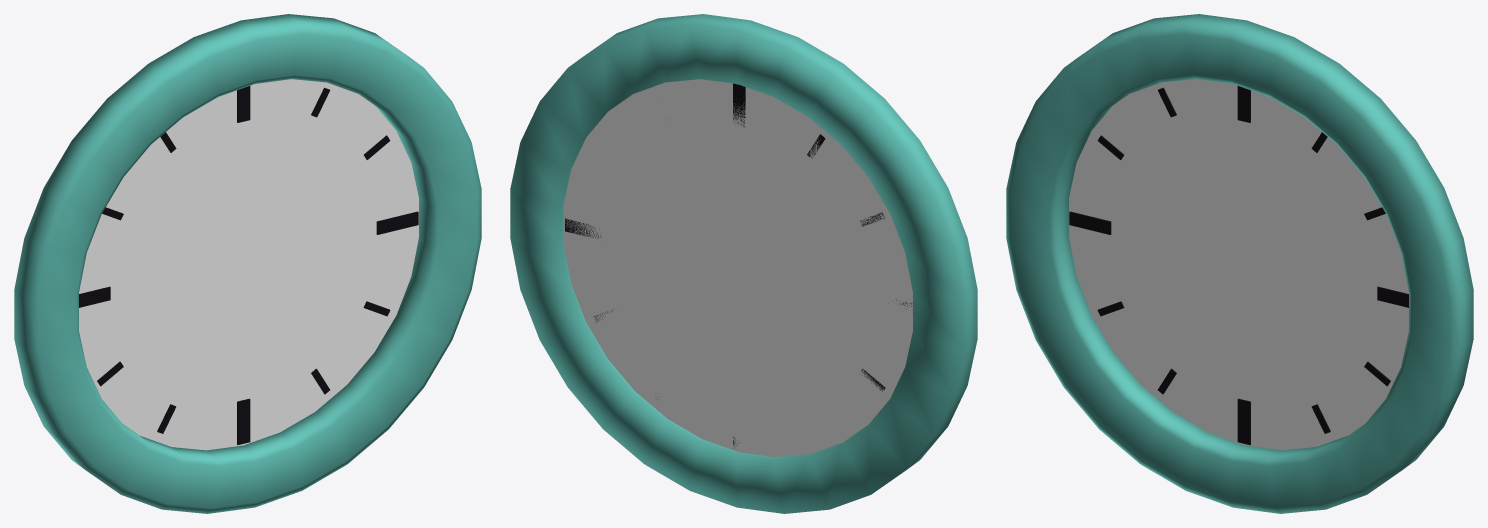
The model's file is Clock.002.fbx.
3 views of the same model, side by side, from view 1: azimuth 30°, elevation 25°; view 2: azimuth 150°, elevation 25°; view 3: azimuth 330°, elevation 25° (orthographic).
Parts seen in each view (by area): view 1: Clock.002; view 2: Clock.002; view 3: Clock.002.
Boxes of the visible parts, x1,y1,x2,y2 form: Clock.002: (14,14,481,513); Clock.002: (510,14,977,513); Clock.002: (1006,14,1473,513).
Size of the model in its own units: 0.38 by 0.3821 by 0.0243.
